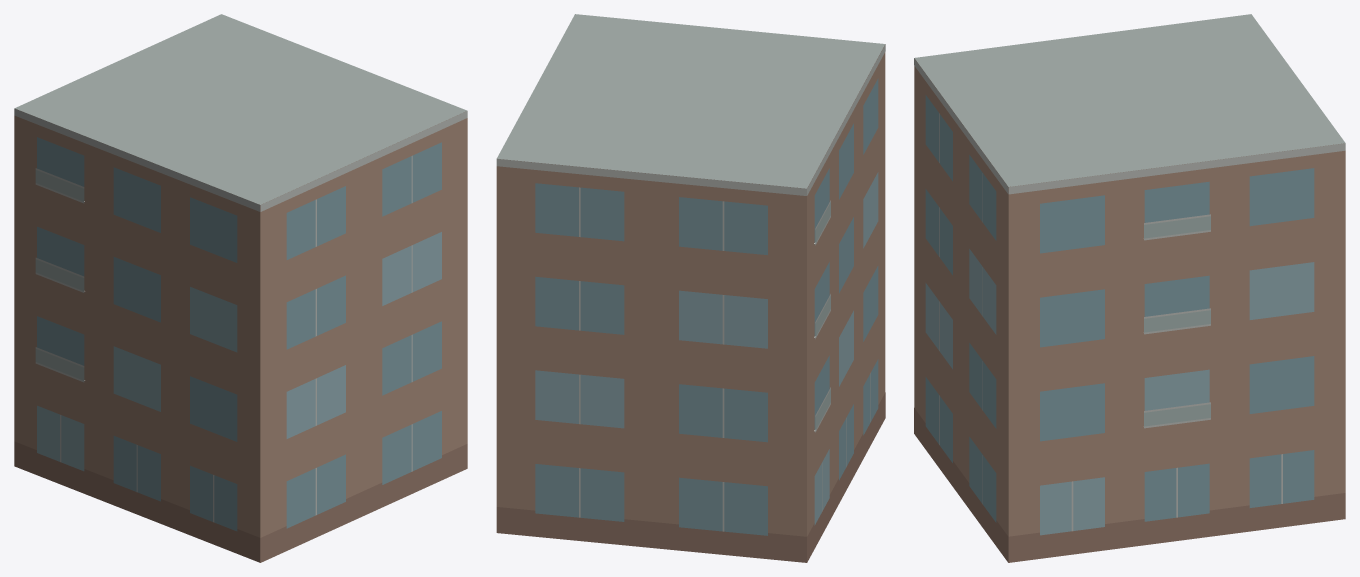
Rendered from residential-4448a0fb-6f88-4964-aed5-20ff9963cda3.glb.
3 views of the same model, side by side, from view 1: azimuth 30°, elevation 25°; view 2: azimuth 150°, elevation 25°; view 3: azimuth 270°, elevation 25° (orthographic). The views are drawn at different scales.
Visible parts, largest first — view 1: residential-4448a0fb-6f88-4964-aed5-20ff9963cda3.tmp; view 2: residential-4448a0fb-6f88-4964-aed5-20ff9963cda3.tmp; view 3: residential-4448a0fb-6f88-4964-aed5-20ff9963cda3.tmp.
Boxes of the visible parts, left/top/right/bottom form: residential-4448a0fb-6f88-4964-aed5-20ff9963cda3.tmp: left=14, top=14, right=467, bottom=562; residential-4448a0fb-6f88-4964-aed5-20ff9963cda3.tmp: left=496, top=14, right=885, bottom=562; residential-4448a0fb-6f88-4964-aed5-20ff9963cda3.tmp: left=914, top=14, right=1345, bottom=562.
Size of the model in its own units: 12.05 by 12.2 by 12.7.
